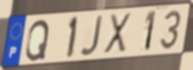1: (65, 15, 79, 60), (143, 9, 157, 54)
3: (157, 9, 183, 51)
J: (79, 14, 105, 58)
Q: (24, 19, 51, 63)
X: (102, 12, 132, 55)
